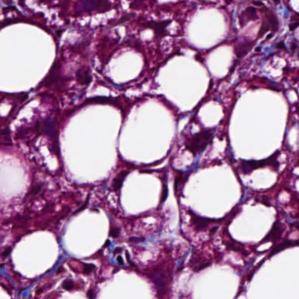inflammation: (133, 14, 183, 42), (105, 238, 136, 267)
